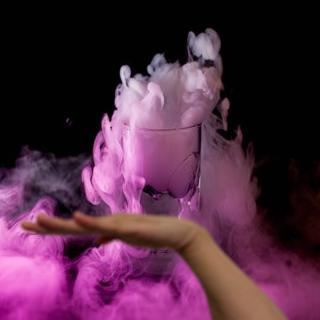WAIT: (19, 204, 198, 255)
